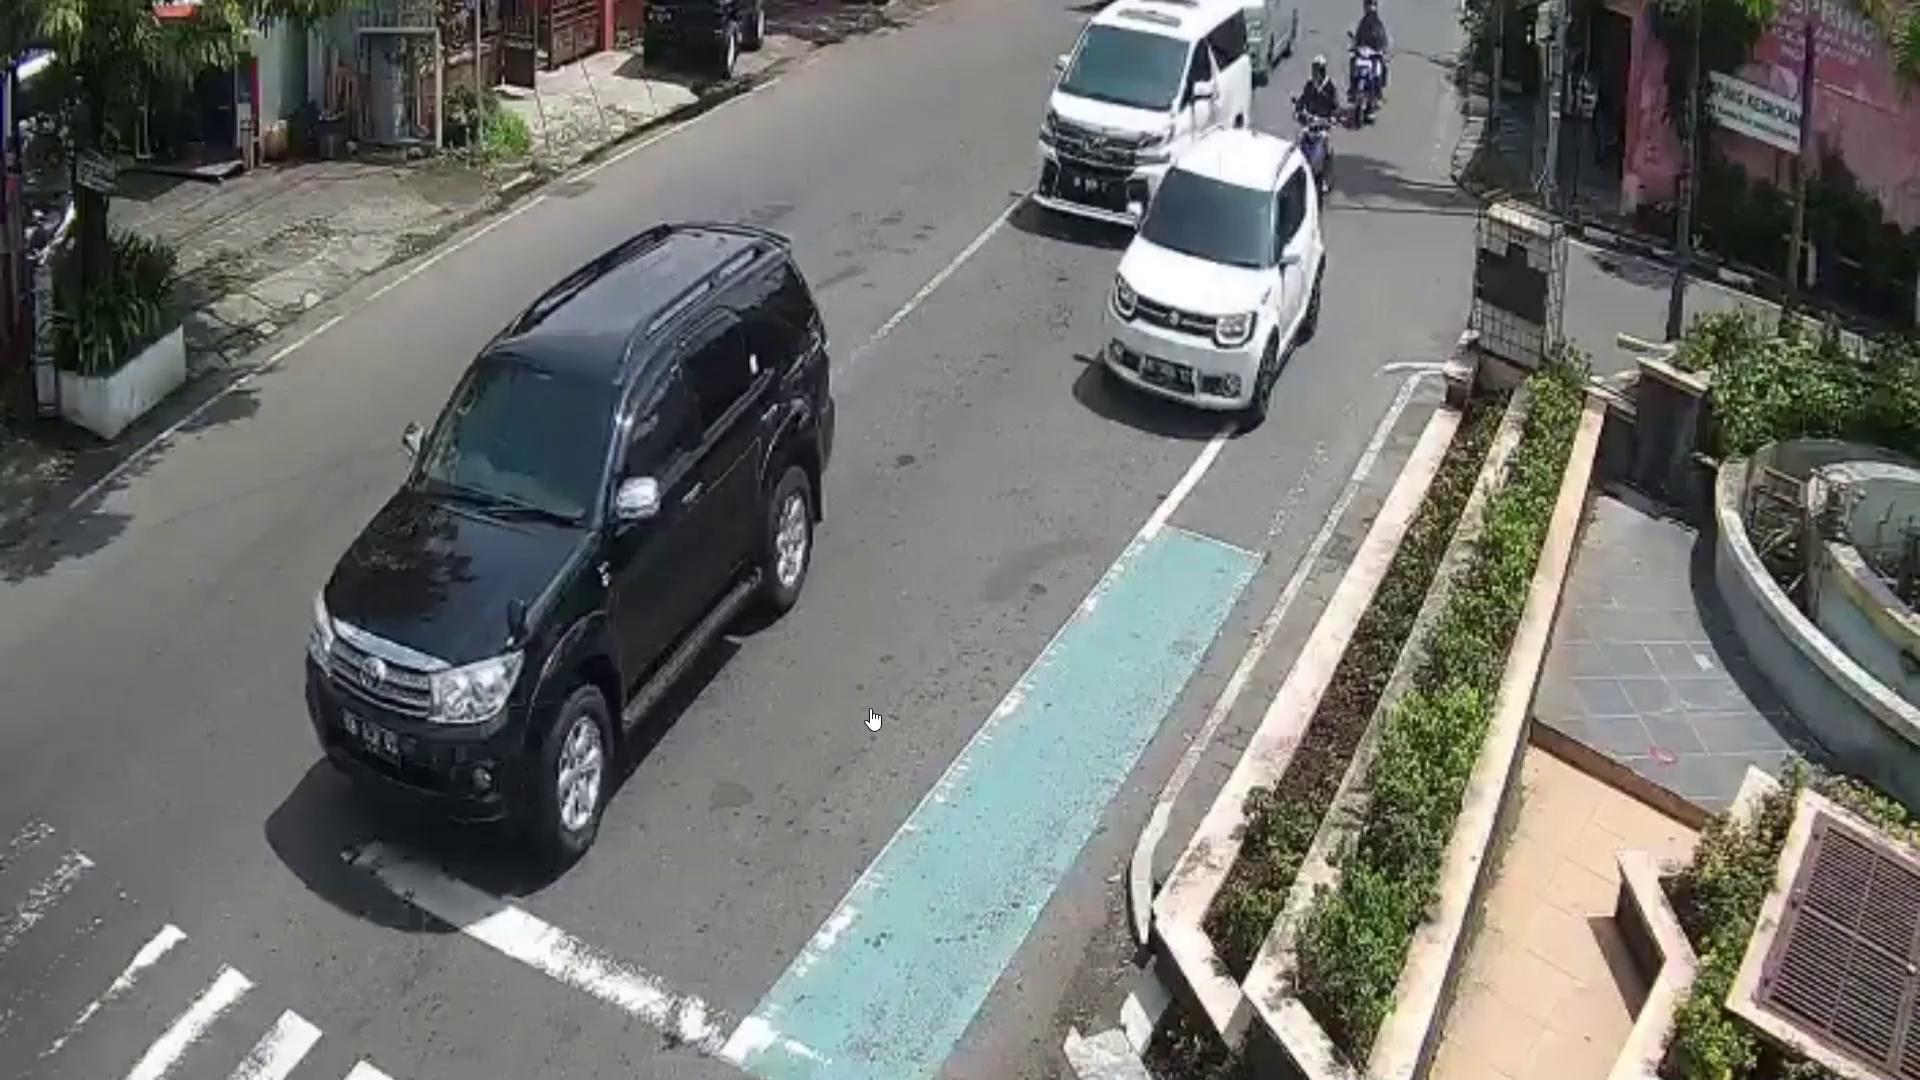car: (306, 223, 833, 860), (1105, 120, 1324, 435), (1038, 1, 1249, 244)
